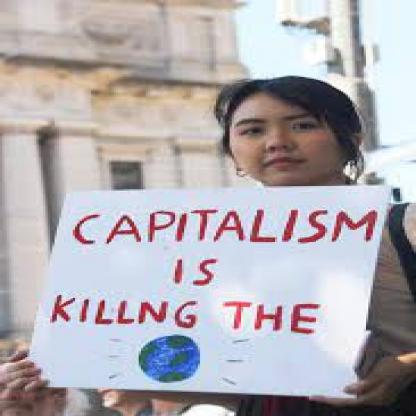BANNER: (27, 185, 393, 405)
